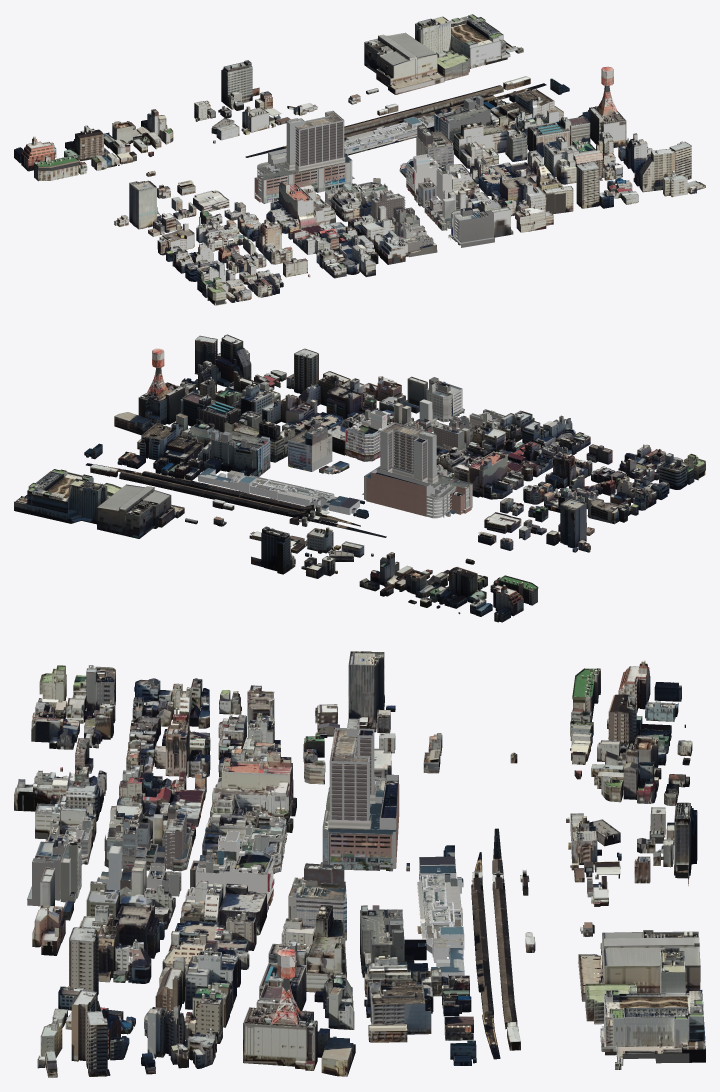
File: 2023-lod3-station-7-1-packed.glb
3 views of the same model, one above another, from view 1: azimuth 30°, elevation 25°; view 2: azimuth 150°, elevation 25°; view 3: azimuth 270°, elevation 25° (orthographic). The views are drawn at different scales.
Bounding box in the file's own units: 622 × 86.58 × 476.
Materials: 27 (25 with a texture image).
